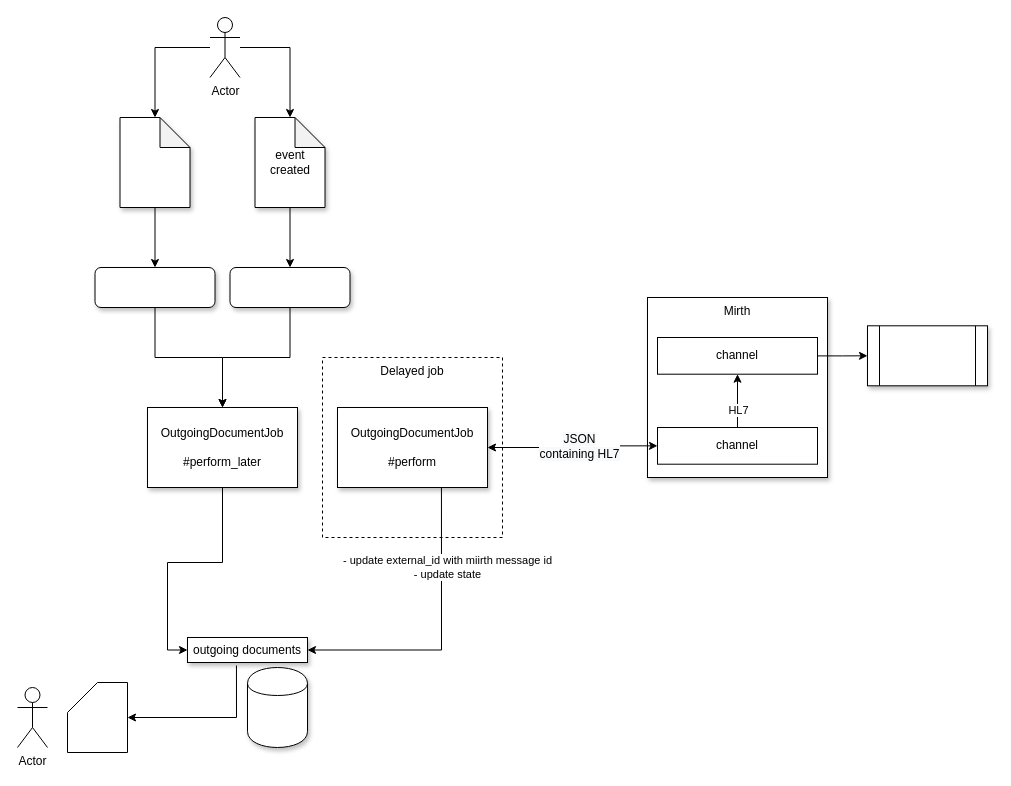
Some shapes in this 1011 by 786 pixel diagram are drawn without their labels. Here are the shapes that lost their labels. From the top down, the centre of each, then its label:
the point at 155,163: letter approved
the point at 155,288: LetterListener
the point at 290,288: EventListener
the point at 928,357: MSE TIE
the point at 97,717: Admin ui
